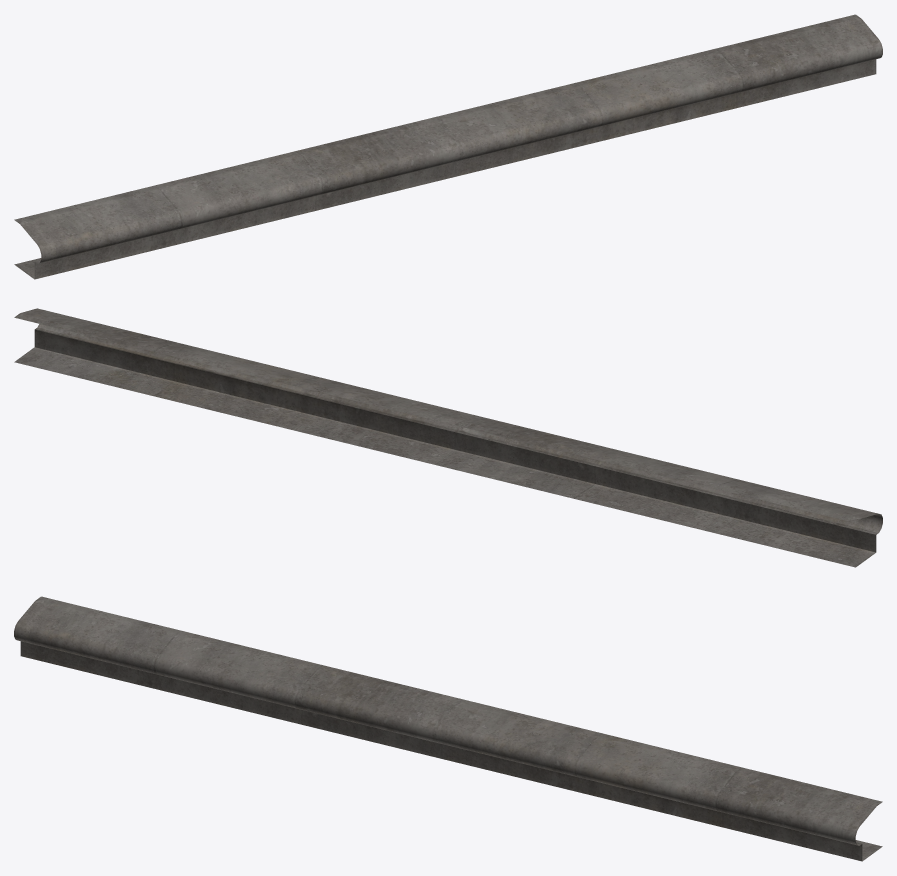
File: strip_cornice.gltf
3 views of the same model, one above another, from view 1: azimuth 30°, elevation 25°; view 2: azimuth 150°, elevation 25°; view 3: azimuth 330°, elevation 25° (orthographic).
Visible parts, largest first — view 1: strip_cornice; view 2: strip_cornice; view 3: strip_cornice.
Part boxes in pixels (box(x1,y1,x2,y2)): strip_cornice: box(14, 14, 882, 279); strip_cornice: box(14, 308, 882, 567); strip_cornice: box(14, 596, 882, 861).
Size of the model in its own units: 3 by 0.152 by 0.1682.
1 material, 1 textured.
